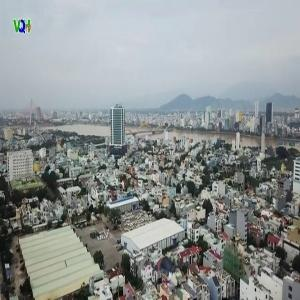drone: (144, 249, 189, 294)
